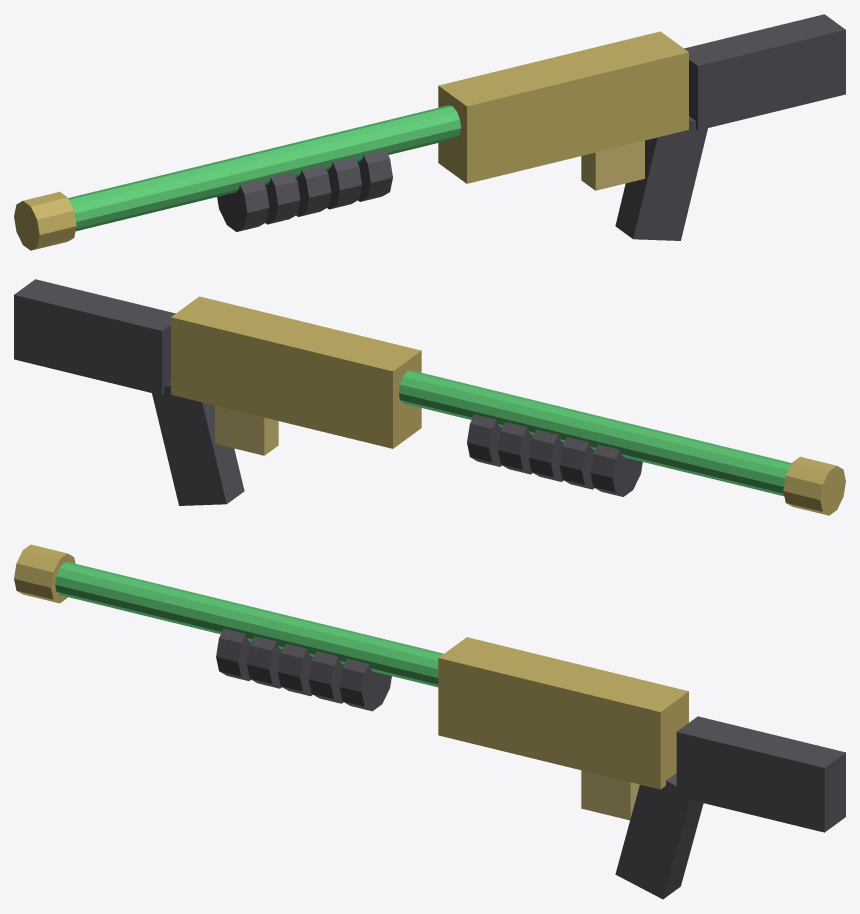
File: zehir_pompali.glb
3 renders of one model, top to bottom at view 1: azimuth 30°, elevation 25°; view 2: azimuth 150°, elevation 25°; view 3: azimuth 330°, elevation 25°, orthographic.
Parts seen in each view (by area): view 1: geometry_0; view 2: geometry_0; view 3: geometry_0.
Part boxes in pixels (x1,y1,x2,y2): geometry_0: [14, 14, 845, 250]; geometry_0: [14, 279, 845, 515]; geometry_0: [14, 544, 845, 899].
Size of the model in its own units: 0.655 by 0.1486 by 0.044.
